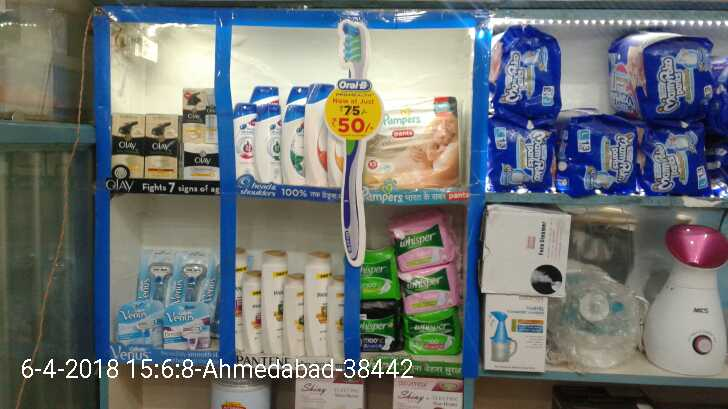venus: (171, 252, 218, 302), (117, 301, 165, 344), (165, 303, 210, 347), (136, 251, 171, 300)
